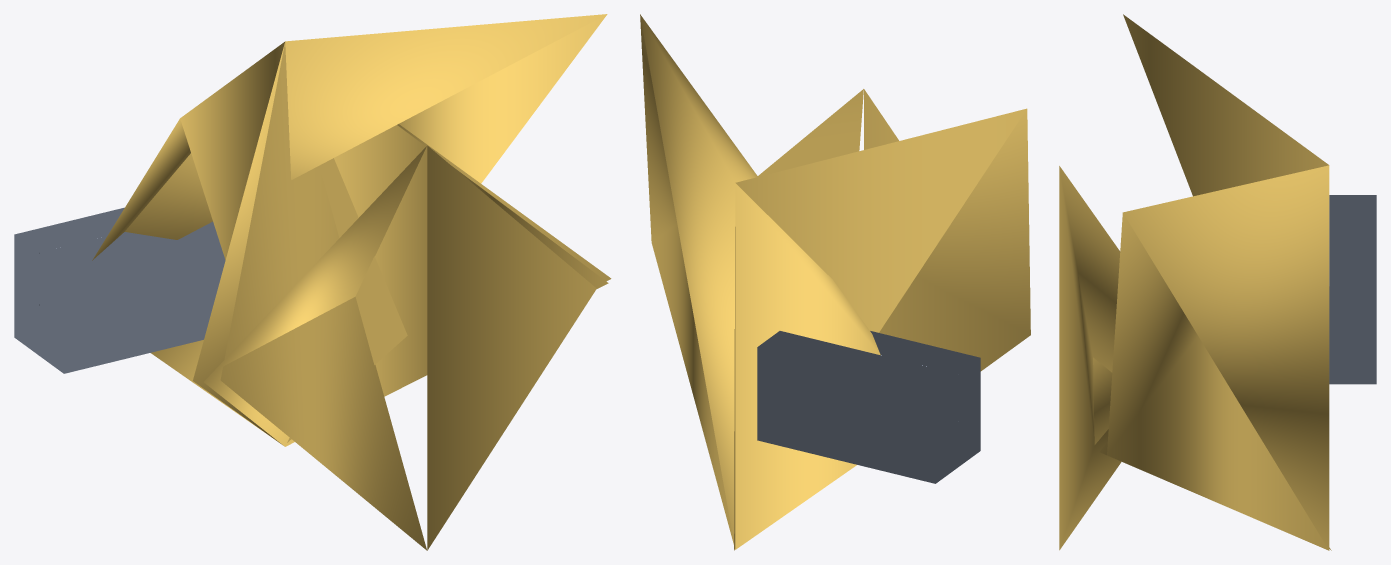
The model's file is morse_test.glb.
The picture shows the model from 3 angles, left to right: view 1: azimuth 30°, elevation 25°; view 2: azimuth 150°, elevation 25°; view 3: azimuth 270°, elevation 25°; orthographic projection. The views are drawn at different scales.
Visible parts, largest first — view 1: DynamometerBrakeUnit, InlineEngineBlock; view 2: DynamometerBrakeUnit, InlineEngineBlock; view 3: DynamometerBrakeUnit, InlineEngineBlock.
Boxes of the visible parts, <box> form: DynamometerBrakeUnit: <box>92,14,611,550</box>; InlineEngineBlock: <box>14,207,225,373</box>; DynamometerBrakeUnit: <box>640,14,1030,550</box>; InlineEngineBlock: <box>757,331,980,483</box>; DynamometerBrakeUnit: <box>1059,14,1331,550</box>; InlineEngineBlock: <box>1329,195,1376,384</box>.
Bounding box in the file's own units: 3.74 × 3.57 × 2.35.
